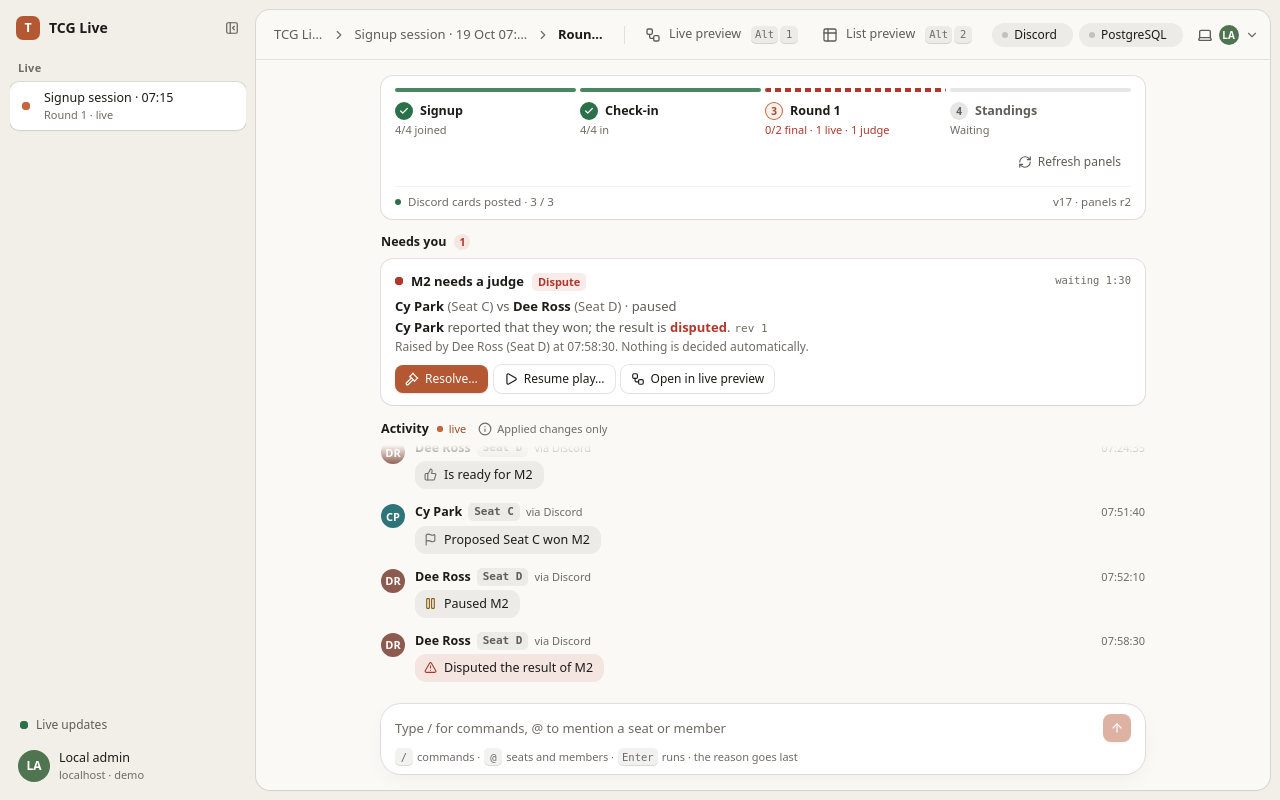
reason dialogs › sends the trimmed reason with the match precondition, then closes
(page scrolled)
Click the button with aria-label "Resolve M2".
click(441, 379)  # box [395,365,488,393]
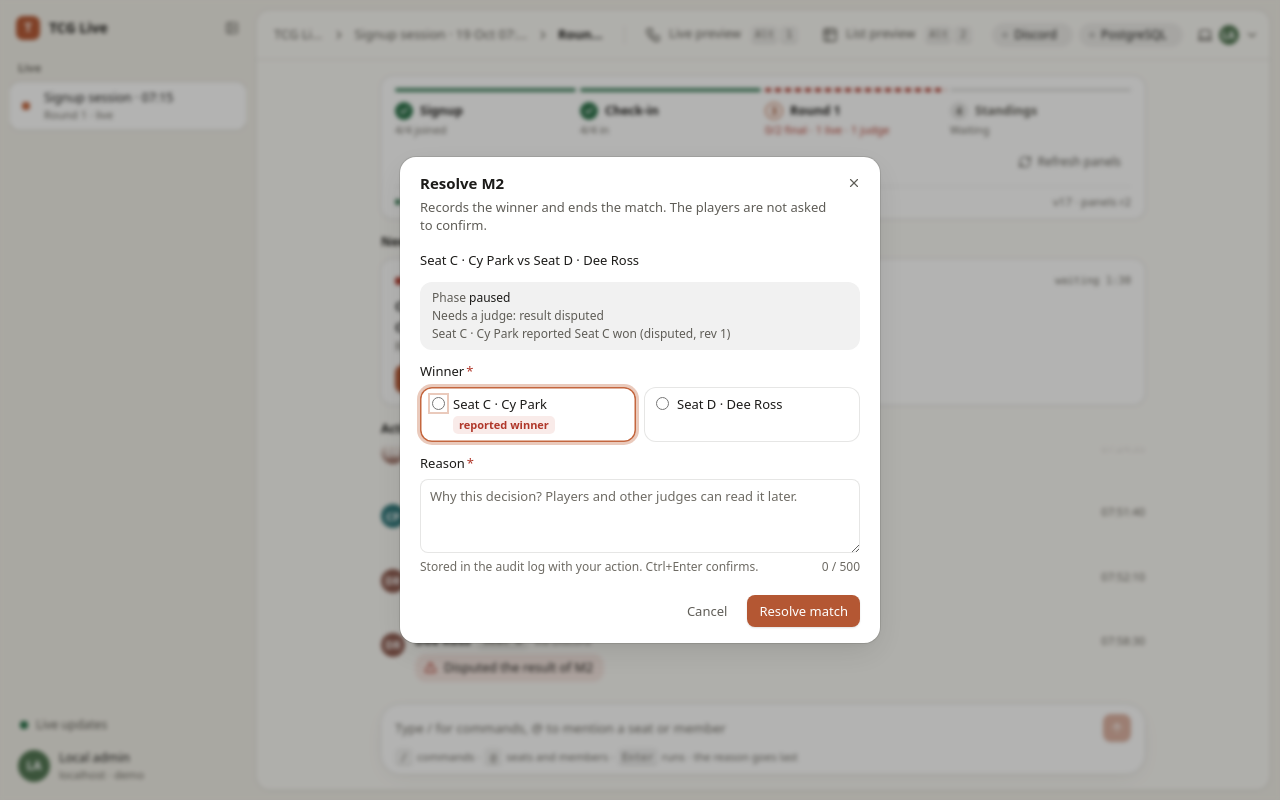
Click the radio button labelled "Seat D · Dee Ross".
click(662, 403)  # box [656,397,669,410]
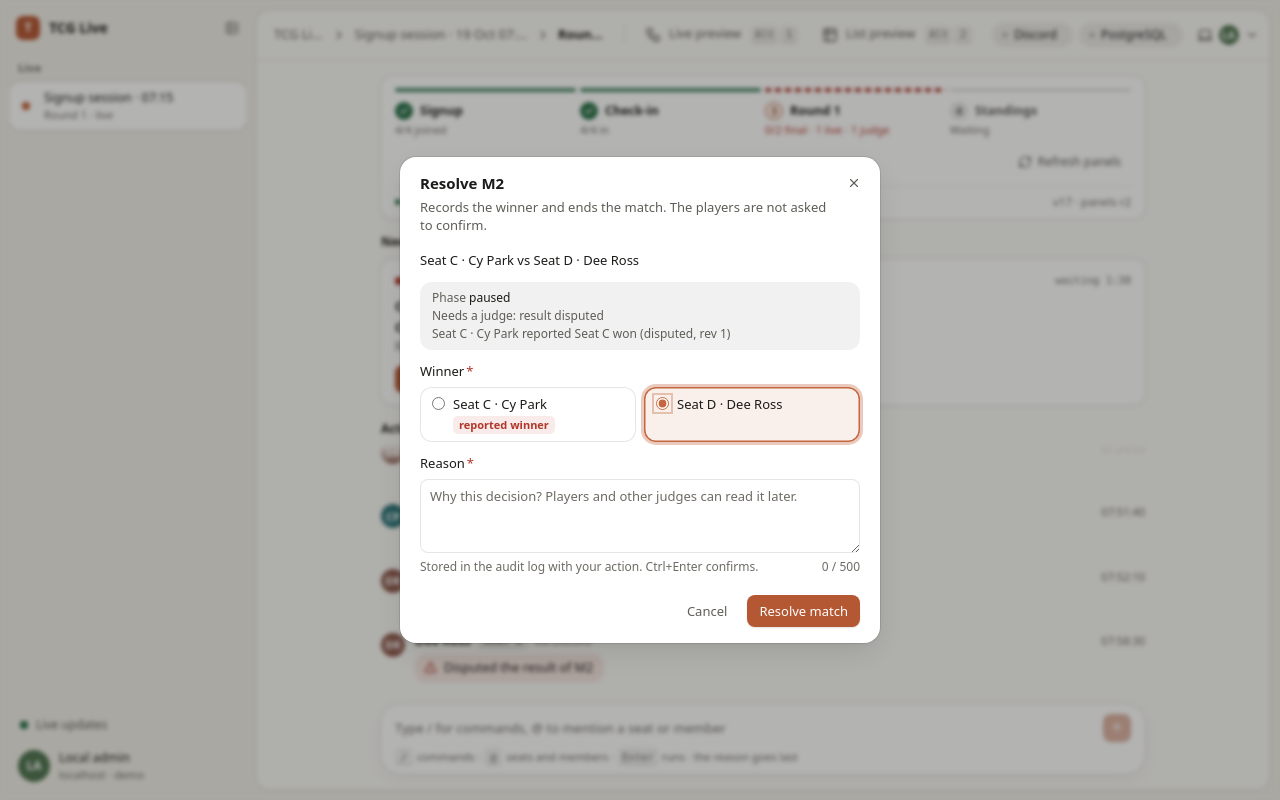
Replace the text in the text box labelled "Reason*" with "  Video review  " at (640, 516), box [420,479,860,553]
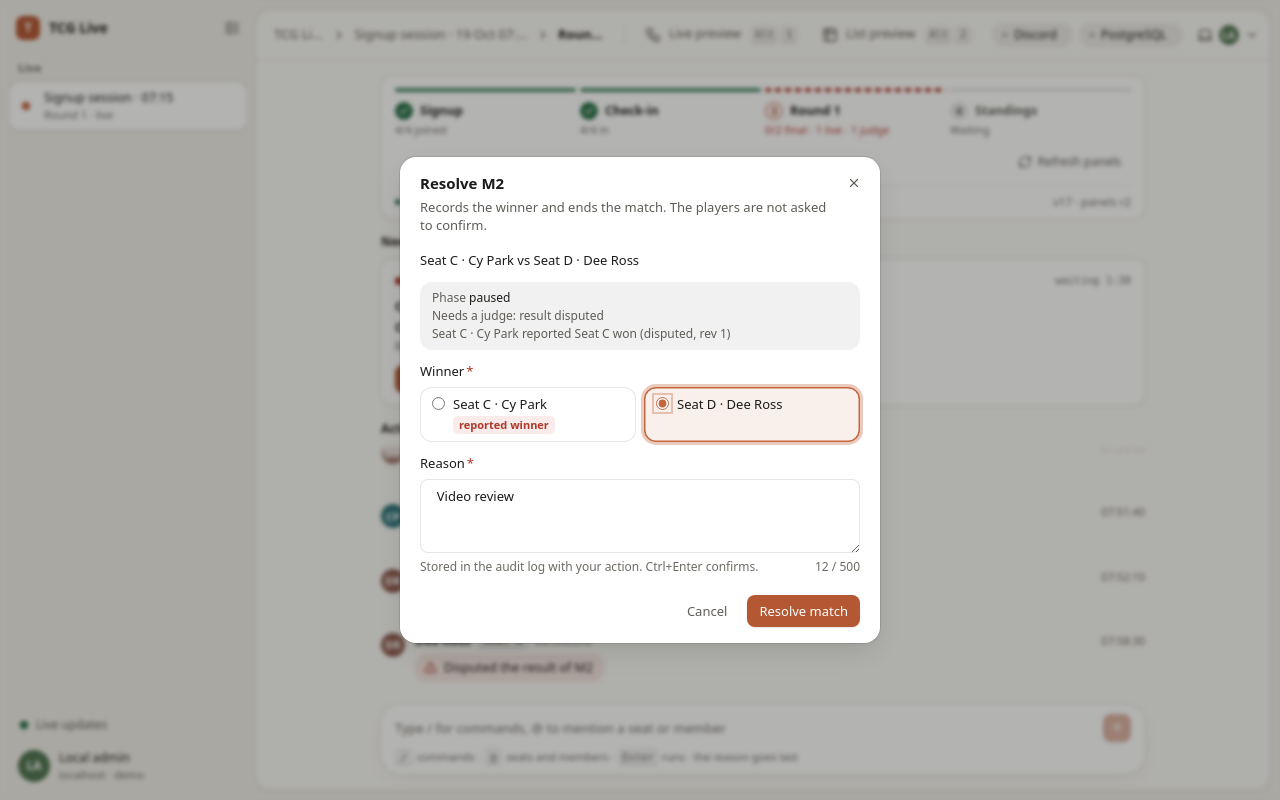
Click the button "Resolve match".
click(804, 611)  # box [747,595,860,627]
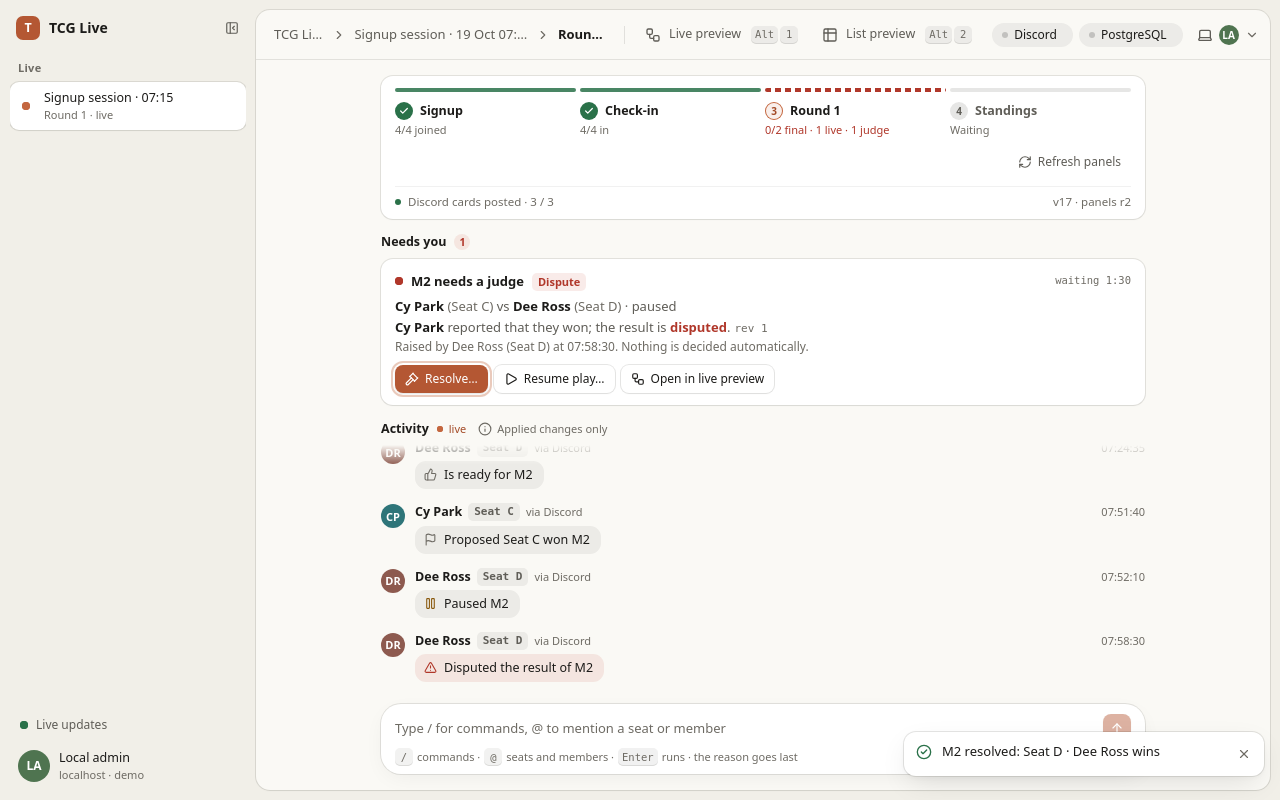
expect the heading "Resolve M2" is gone: met
expect the text "M2 resolved: Seat D · Dee Ross wins" is shown: met, box [942,742,1160,760]
